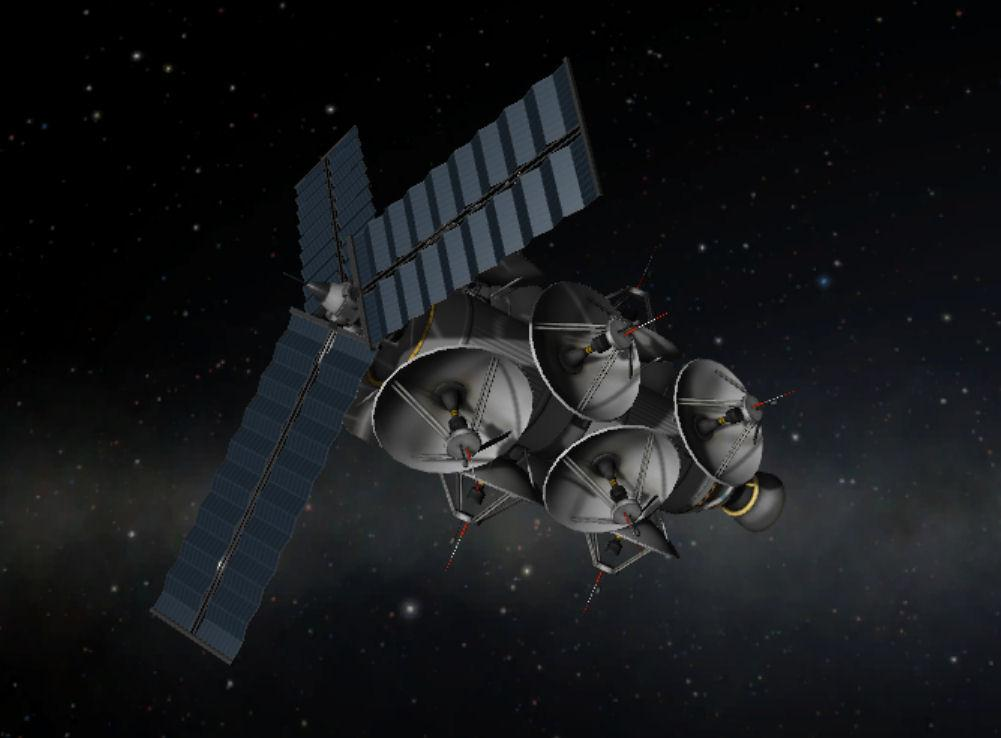antenna: (367, 344, 539, 477), (528, 278, 672, 425), (672, 354, 800, 490), (538, 424, 687, 536), (437, 445, 545, 581), (588, 232, 684, 361), (575, 506, 683, 620)
body: (337, 283, 760, 520)
solar: (145, 305, 379, 669), (345, 54, 607, 351), (290, 122, 380, 336)
thruster: (720, 468, 792, 537)
